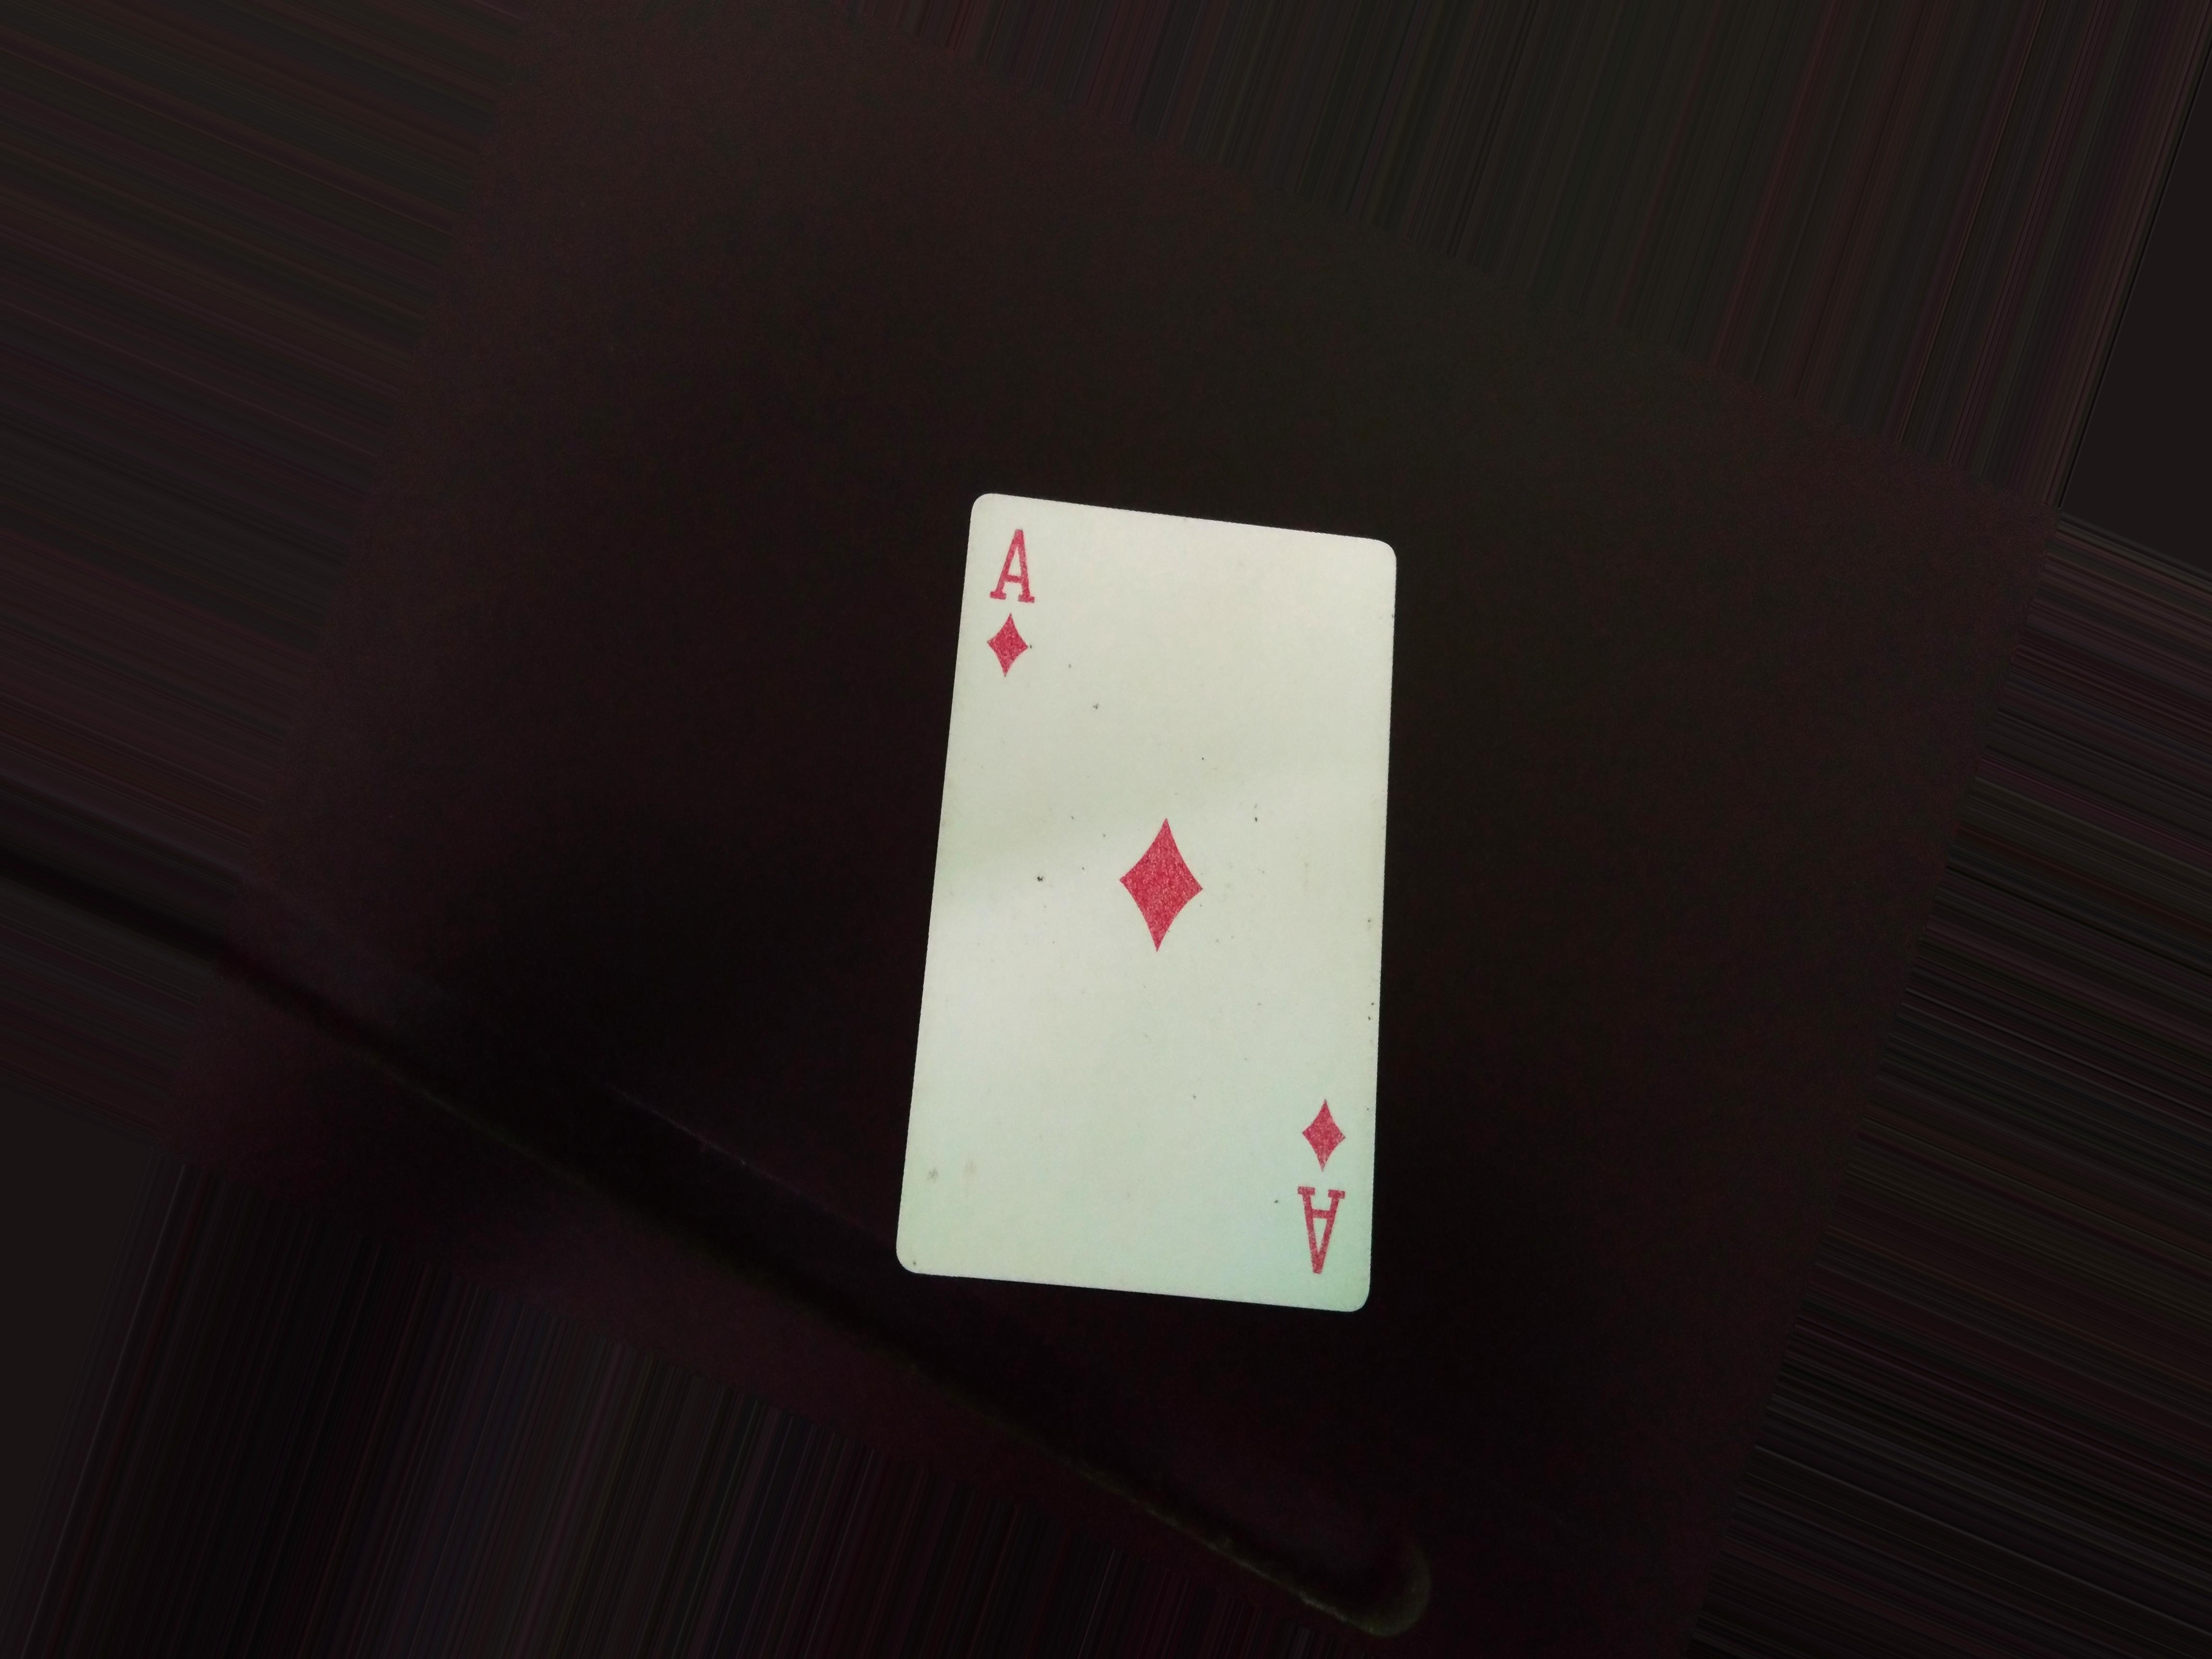AD: (977, 512, 1052, 687)
